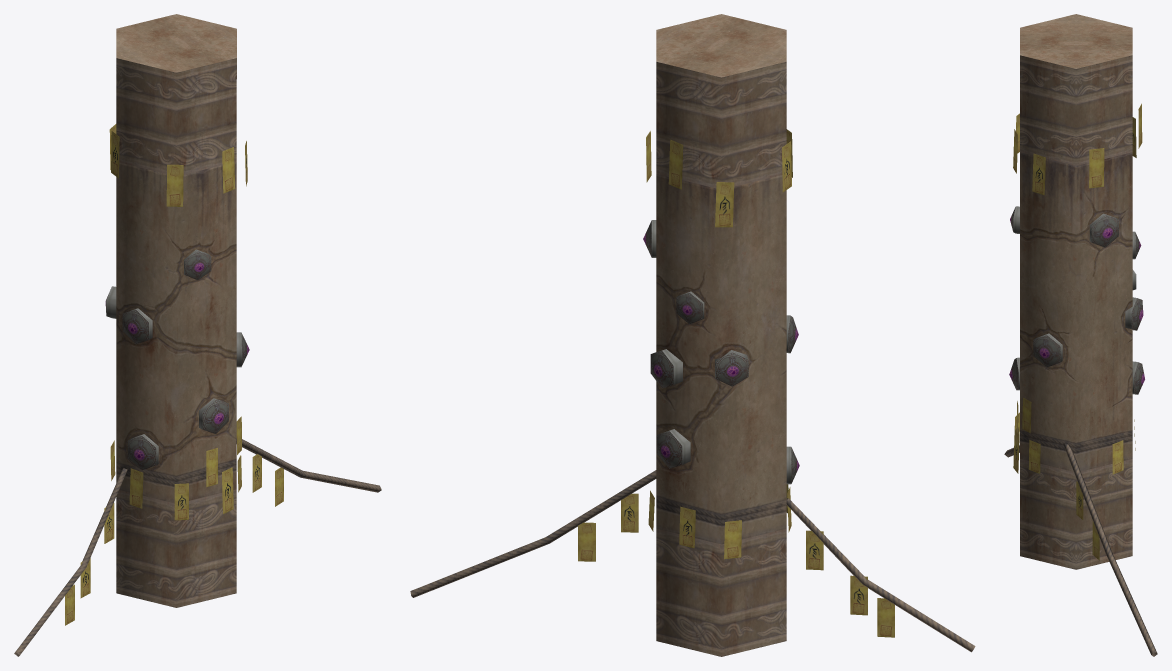
The model's file is b_zx_shizhu01_01_lod1.FBX.
3 renders of one model, left to right at view 1: azimuth 30°, elevation 25°; view 2: azimuth 150°, elevation 25°; view 3: azimuth 270°, elevation 25°, orthographic. The views are drawn at different scales.
Visible parts, largest first — view 1: b_zx_shizhu01_01_lod1; view 2: b_zx_shizhu01_01_lod1; view 3: b_zx_shizhu01_01_lod1.
Boxes of the visible parts, left/top/right/bottom form: b_zx_shizhu01_01_lod1: left=14, top=14, right=381, bottom=656; b_zx_shizhu01_01_lod1: left=410, top=14, right=975, bottom=656; b_zx_shizhu01_01_lod1: left=1004, top=14, right=1157, bottom=656.
Size of the model in its own units: 6.47 by 7.53 by 2.07.
